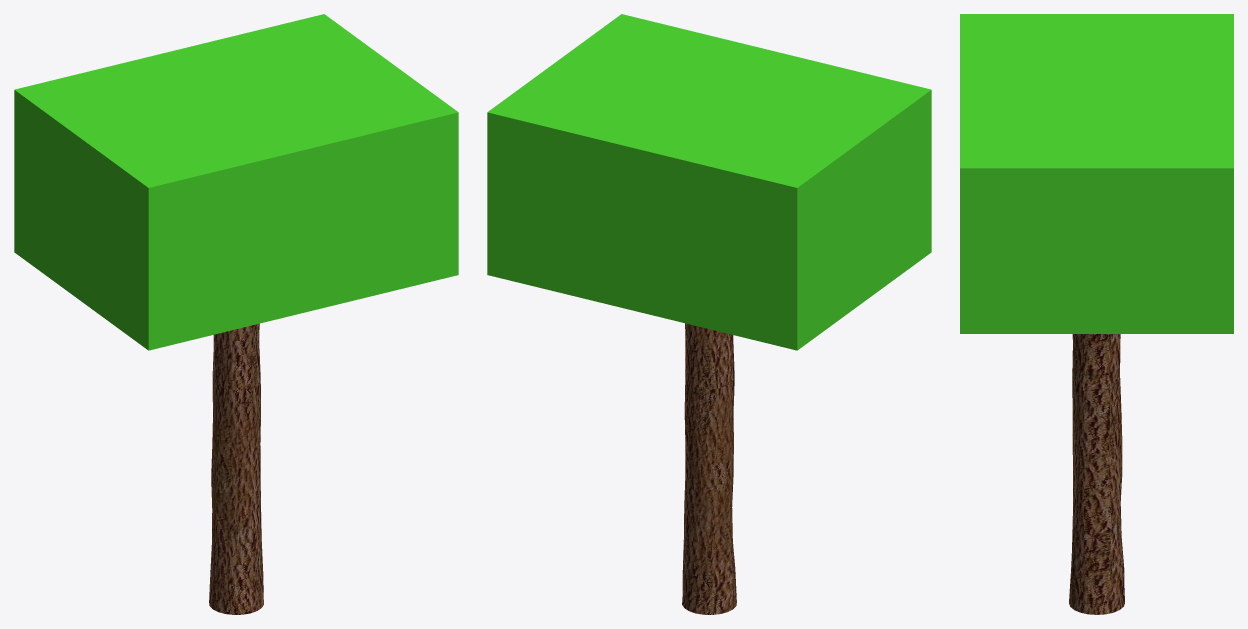
The model's file is sm_blockTree.fbx.
The picture shows the model from 3 angles, left to right: view 1: azimuth 30°, elevation 25°; view 2: azimuth 150°, elevation 25°; view 3: azimuth 270°, elevation 25°; orthographic projection.
Parts seen in each view (by area): view 1: sm_blockTree; view 2: sm_blockTree; view 3: sm_blockTree.
Boxes of the visible parts, <box> form: sm_blockTree: <box>14,14,458,614</box>; sm_blockTree: <box>487,14,931,614</box>; sm_blockTree: <box>960,14,1233,614</box>.
Bounding box in the file's own units: 390 × 604 × 293.
1 material, 1 textured.
